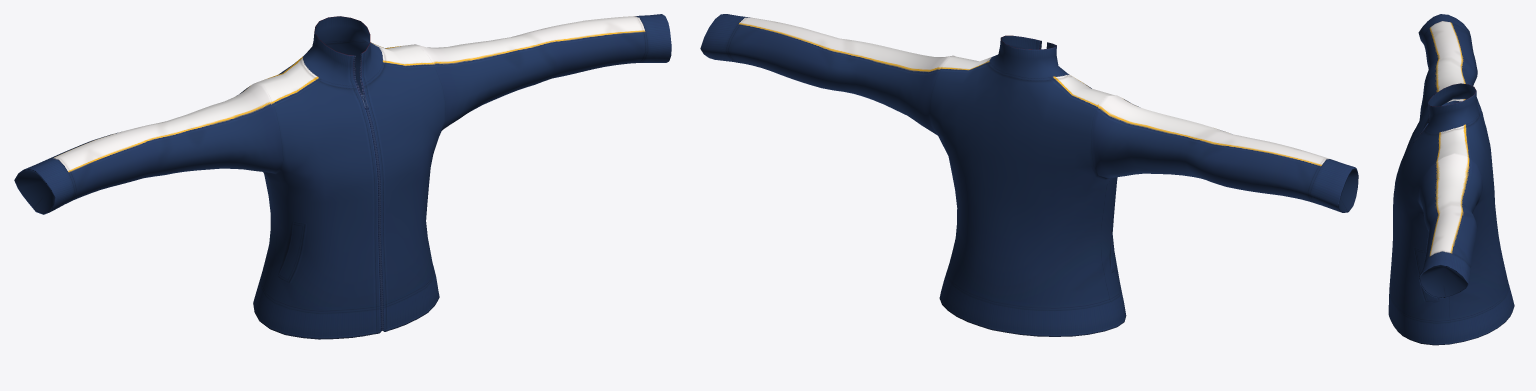
The model's file is 14_longsleeve_t.glb.
3 renders of one model, left to right at view 1: azimuth 30°, elevation 25°; view 2: azimuth 150°, elevation 25°; view 3: azimuth 270°, elevation 25°, orthographic. The views are drawn at different scales.
Visible parts, largest first — view 1: longsleeve_tpose; view 2: longsleeve_tpose; view 3: longsleeve_tpose.
Part boxes in pixels (<box>): longsleeve_tpose: <box>14,14,671,339</box>; longsleeve_tpose: <box>700,14,1358,336</box>; longsleeve_tpose: <box>1388,14,1514,345</box>.
Size of the model in its own units: 1.77 by 0.8337 by 0.3971.
Materials: 1 (1 with a texture image).
